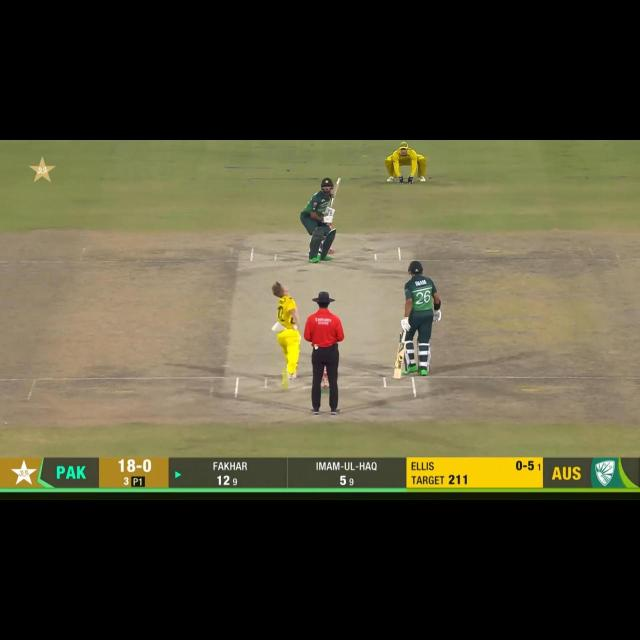bat: (393, 344, 406, 378), (330, 176, 341, 211)
toe: (392, 372, 402, 380), (336, 177, 342, 185)
